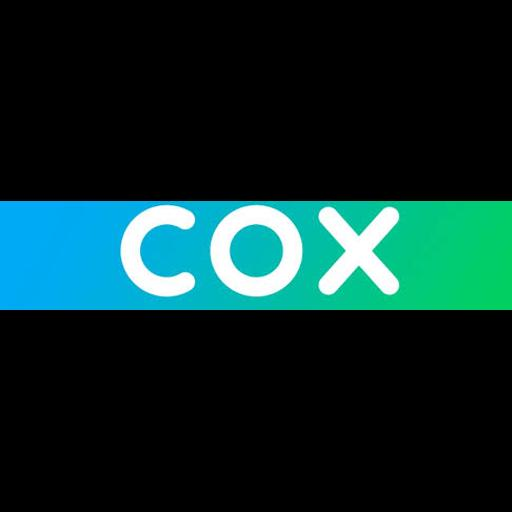Cox Communications: (0, 201, 512, 310)
